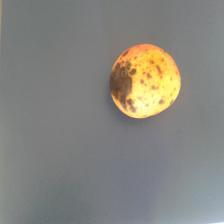Mango Semirotten: (106, 41, 182, 121)
